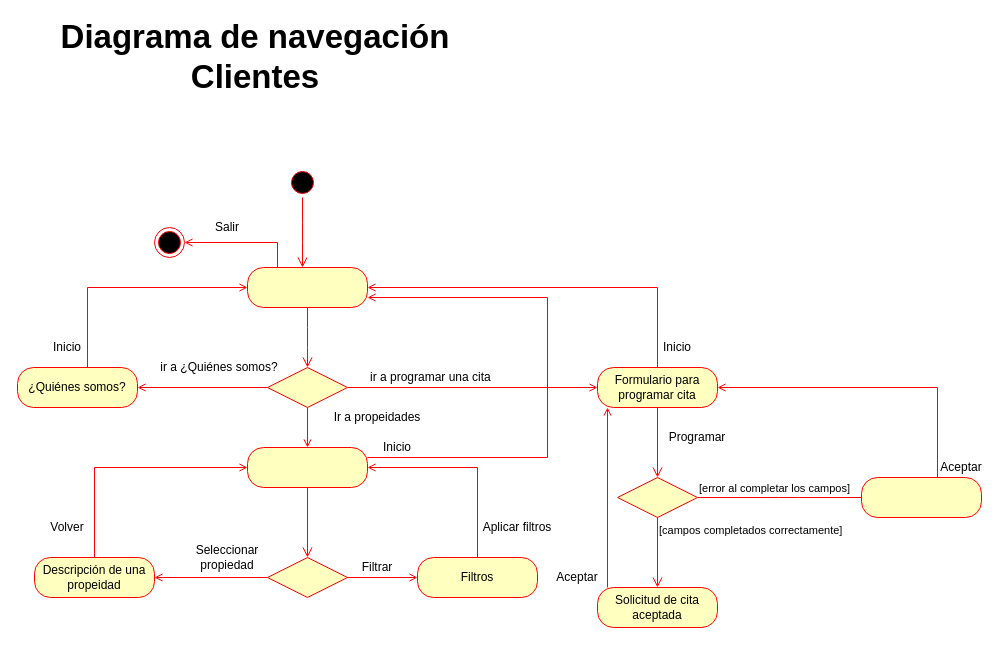
The diagram is 999 pixels wide and 645 high, and some of its shapes have lost their labels. Here are the shapes that lost their labels. From the top down, the box of each, then its label:
(246, 266, 368, 308): Bienvenida
(246, 446, 368, 488): Listado de propiedades
(860, 476, 982, 518): Error al completar los campos
